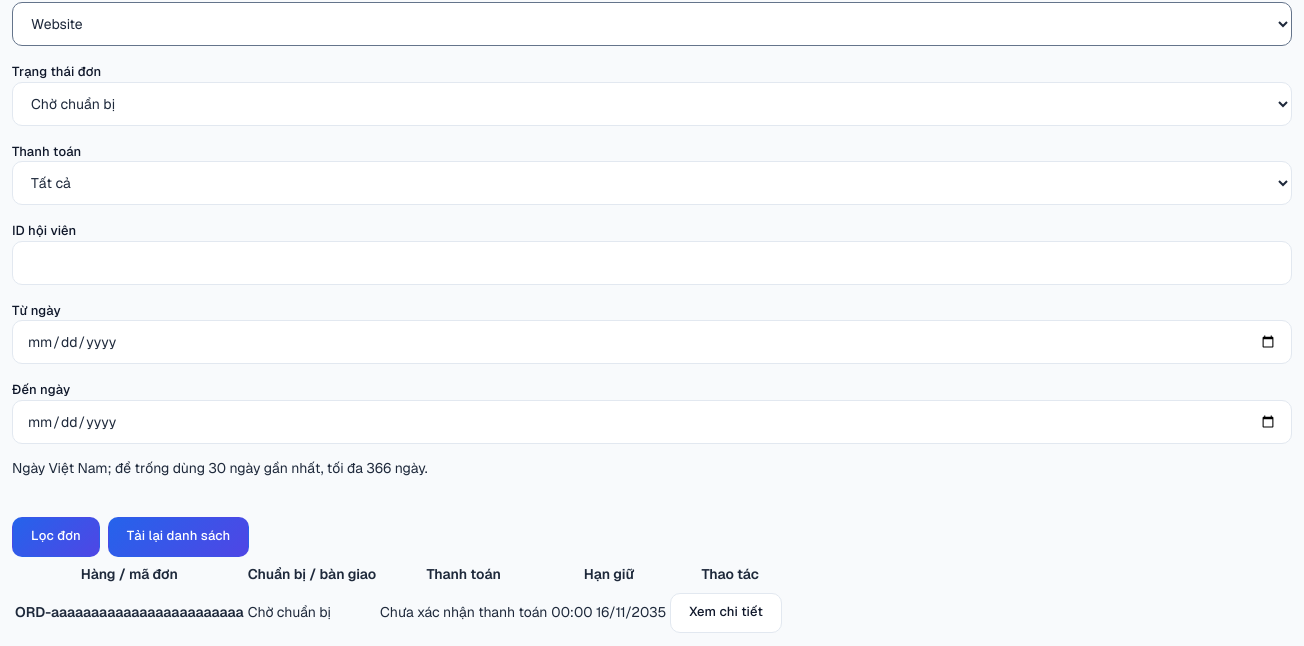
Test case: US-43 TC12: list/detail, command recovery and separate operational/payment states › conflict reloads latest state and version, then requires checking goods again
(page scrolled)
Click the button "Xem chi tiết": [726, 613] box [670,593,782,633]
(page scrolled)
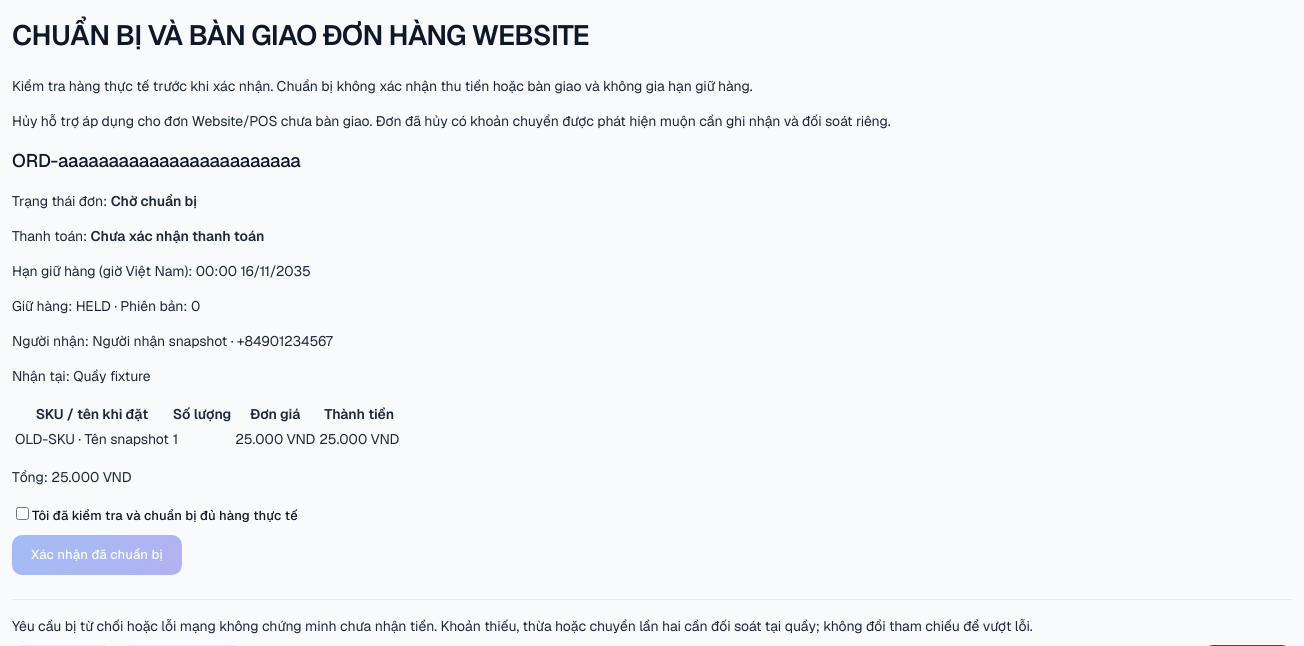
Click the checkbox labelled "Tôi đã kiểm tra và chuẩn bị đủ hàng thực tế": [22, 513] box [16,507,29,520]
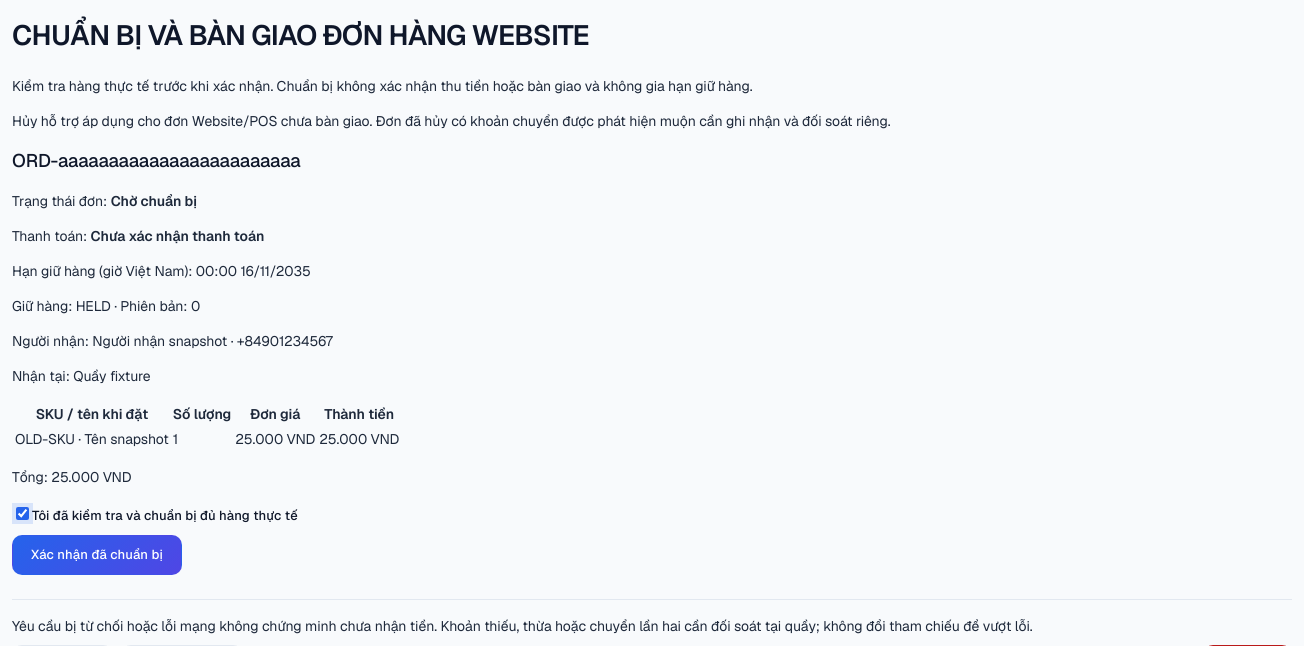
Click the button "Xác nhận đã chuẩn bị": [97, 555] box [12,535,182,575]
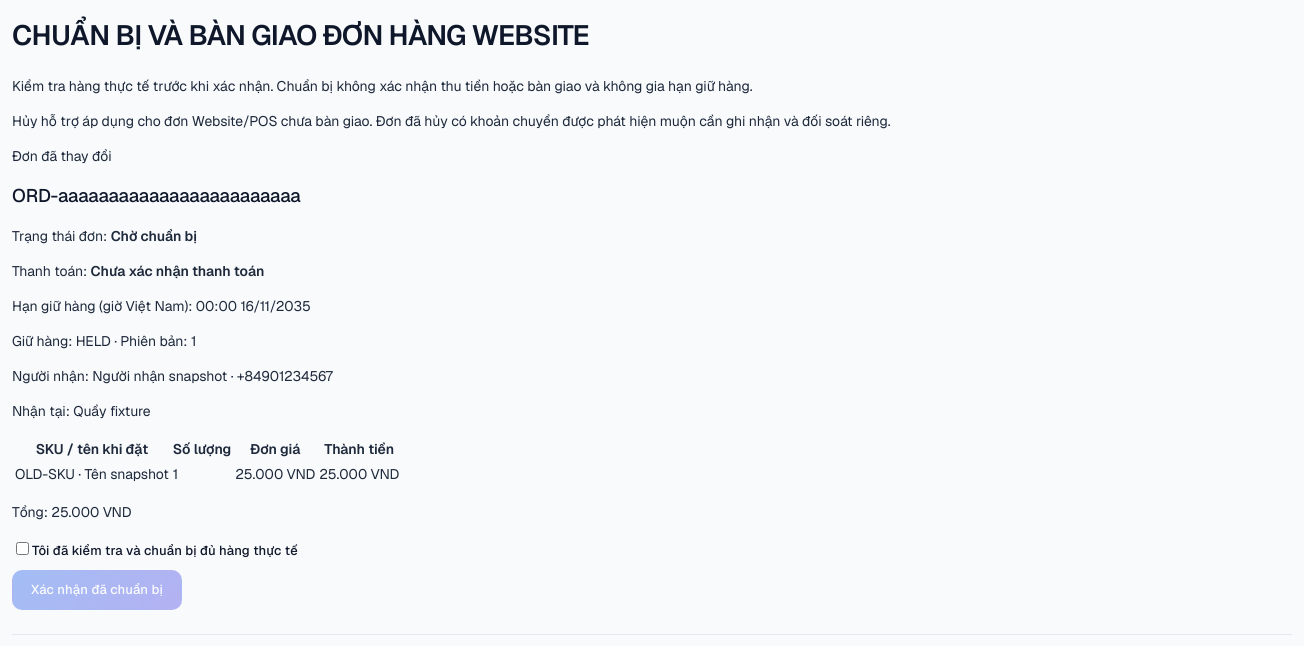
expect the checkbox labelled "Tôi đã kiểm tra và chuẩn bị đủ hàng thực tế" is not checked: met, box [16,542,29,555]
expect the text "Đơn đã thay đổi" is shown: met, box [12,147,112,165]
expect the text "Giữ hàng: HELD · Phiên bản: 1" is shown: met, box [12,332,196,350]
